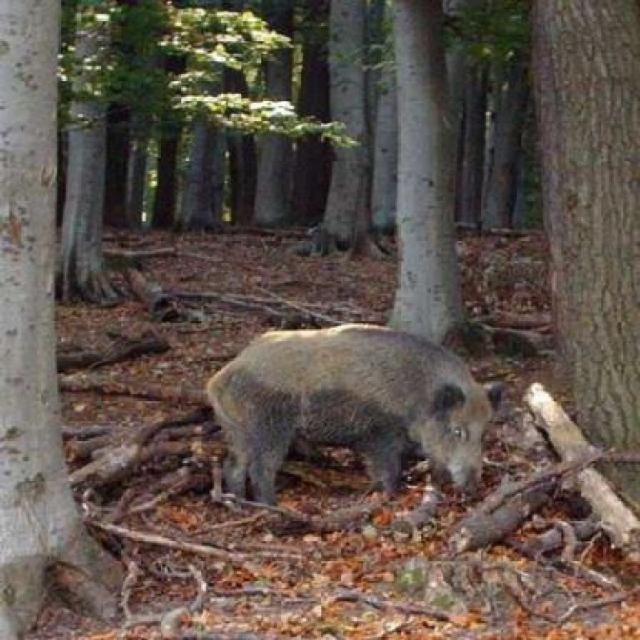pig: (149, 246, 497, 518)
